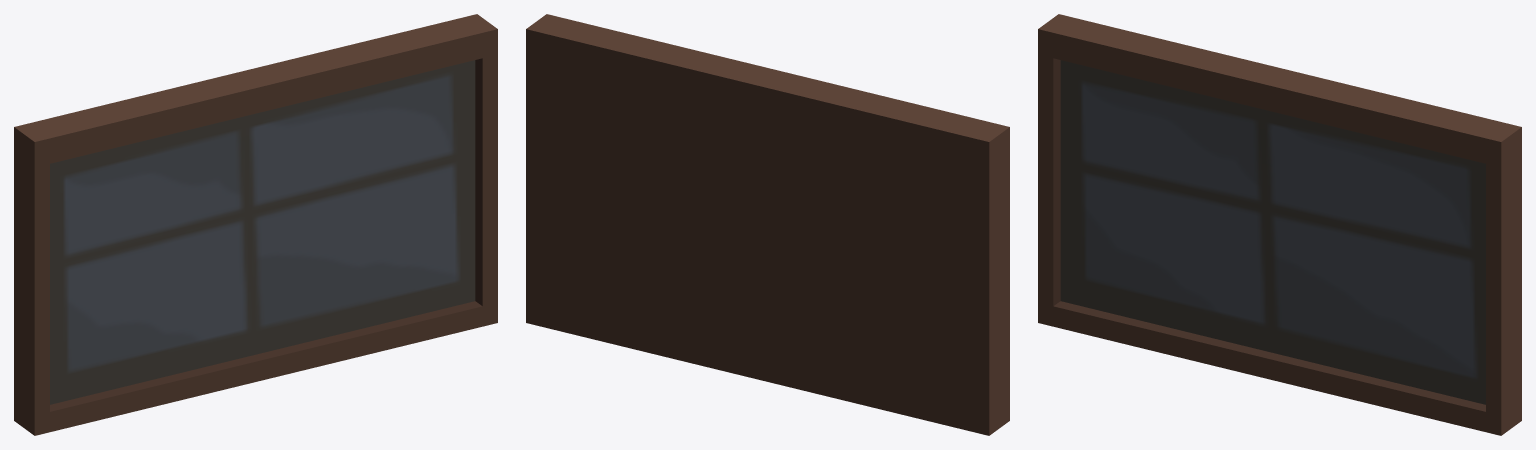
File: Window_E14.fbx
3 views of the same model, side by side, from view 1: azimuth 30°, elevation 25°; view 2: azimuth 150°, elevation 25°; view 3: azimuth 330°, elevation 25° (orthographic).
Visible parts, largest first — view 1: Window_E14; view 2: Window_E14; view 3: Window_E14.
Boxes of the visible parts, box(x1,y1,x2,y2) form: Window_E14: box(14, 14, 497, 435); Window_E14: box(526, 14, 1009, 435); Window_E14: box(1038, 14, 1521, 435).
Size of the model in its own units: 375 by 227 by 28.95.
